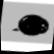correct: (11, 9, 52, 43)
